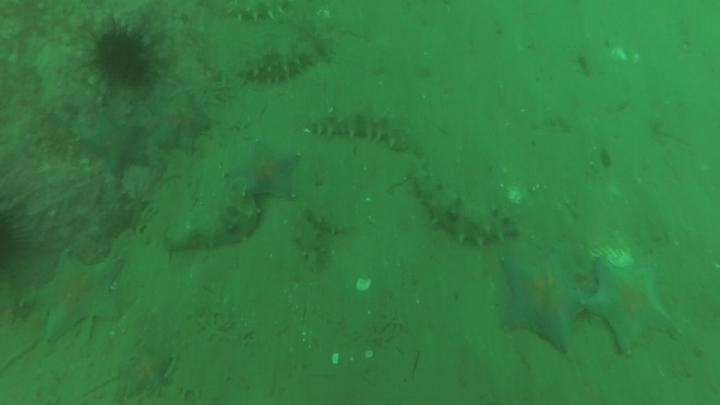echinus: (87, 22, 160, 91), (0, 203, 32, 273)
holothurian: (408, 167, 520, 249), (166, 196, 263, 254), (236, 33, 330, 88), (303, 107, 414, 153), (290, 208, 333, 274), (222, 0, 295, 27), (300, 205, 357, 238)
scallop: (594, 243, 637, 271)
starfish: (496, 248, 590, 356), (21, 247, 125, 343), (581, 255, 679, 356), (78, 111, 152, 180), (225, 140, 303, 202), (144, 87, 214, 153), (115, 344, 177, 397)
